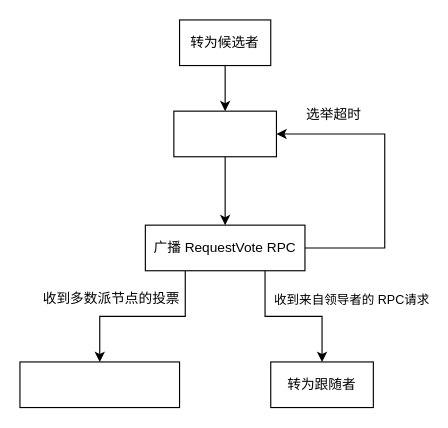
Image size: 448x428. Some labels were removed from this diagram. Each missing label, with the centre of its shape:
"currentTerm++ 投自己一票" belongs at [224,133].
"成为领导者，发送心跳" belongs at [99,384].
